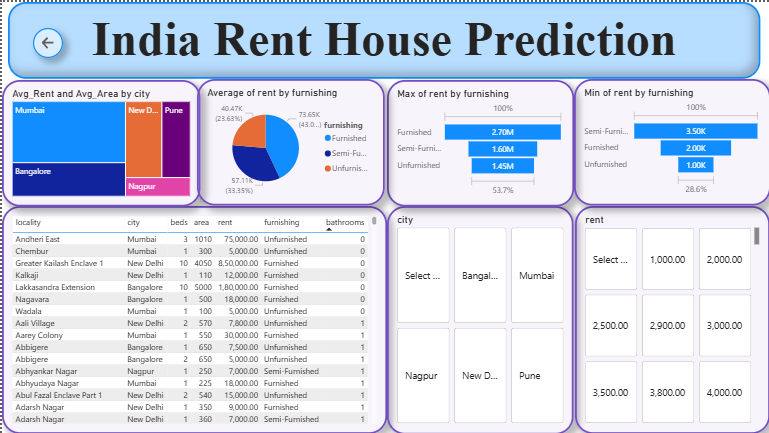

This screenshot's page, from the dashboard's own definition file:
{"tool":"powerbi","page":{"name":"Page 2","canvas":[1280,720],"ordinal":1},"visuals":[{"type":"textbox","box":[10.5,0,1253.7,128.2],"z":0},{"type":"actionButton","box":[50.9,43.9,50,50],"z":1000},{"type":"tableEx","fields":{"Values":["data.locality","data.city","data.beds","data.area","data.rent","data.furnishing","data.bathrooms"]},"box":[0,340,641.7,380],"z":2000},{"type":"advancedSlicerVisual","fields":{"Values":["data.city"]},"box":[641.8,339.7,311.1,380.8],"z":3000},{"type":"advancedSlicerVisual","fields":{"Values":["data.rent"]},"box":[955.6,339.5,324.9,380.5],"z":4000},{"type":"treemap","fields":{"Group":["data.city"],"Values":["data.Avg_Rent"]},"box":[0,130.2,330.7,210.7],"z":5000},{"type":"funnel","fields":{"Category":["data.furnishing"],"Y":["Max(data.rent)"]},"box":[641,130.2,311.7,210.7],"z":6000},{"type":"funnel","fields":{"Category":["data.furnishing"],"Y":["Min(data.rent)"]},"box":[952.7,128.8,327.8,210.7],"z":7000},{"type":"pieChart","fields":{"Category":["data.furnishing"],"Y":["Avg(data.rent)"]},"box":[325.4,128.7,312.8,210.9],"z":8000}]}

Visuals, with their boxes in screenshot pixels (x1, y1, x2, y2), scaled from the page's 1280x720 canvas onto the 769x433 screenshot:
textbox: [left=6, top=0, right=760, bottom=77]
actionButton: [left=31, top=26, right=61, bottom=56]
tableEx - data.locality x data.city: [left=0, top=204, right=386, bottom=432]
advancedSlicerVisual - data.city: [left=386, top=204, right=572, bottom=432]
advancedSlicerVisual - data.rent: [left=574, top=204, right=768, bottom=432]
treemap - data.city x data.Avg_Rent: [left=0, top=78, right=199, bottom=205]
funnel - data.furnishing x Max(data.rent): [left=385, top=78, right=572, bottom=205]
funnel - data.furnishing x Min(data.rent): [left=572, top=77, right=768, bottom=204]
pieChart - data.furnishing x Avg(data.rent): [left=195, top=77, right=383, bottom=204]
